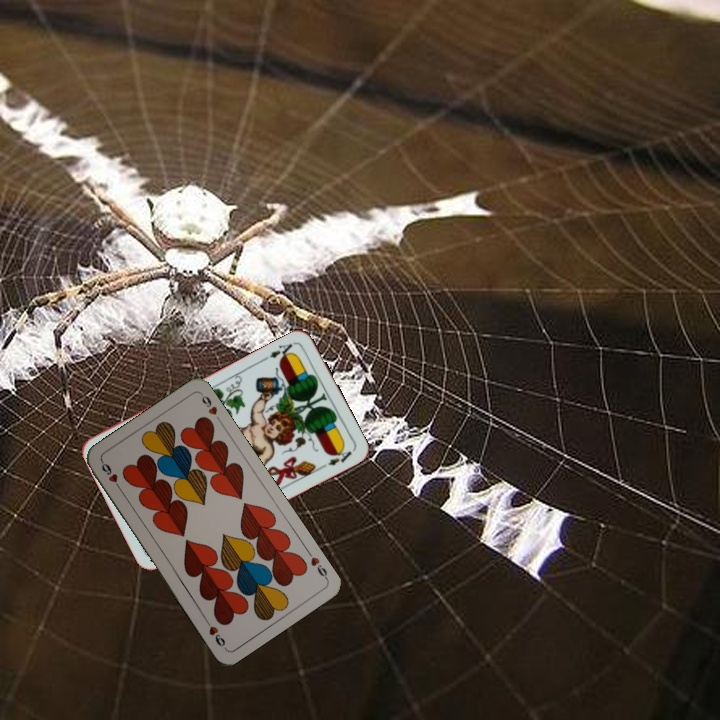EA: (265, 338, 298, 364)
H9: (97, 457, 125, 493), (307, 553, 330, 582)
